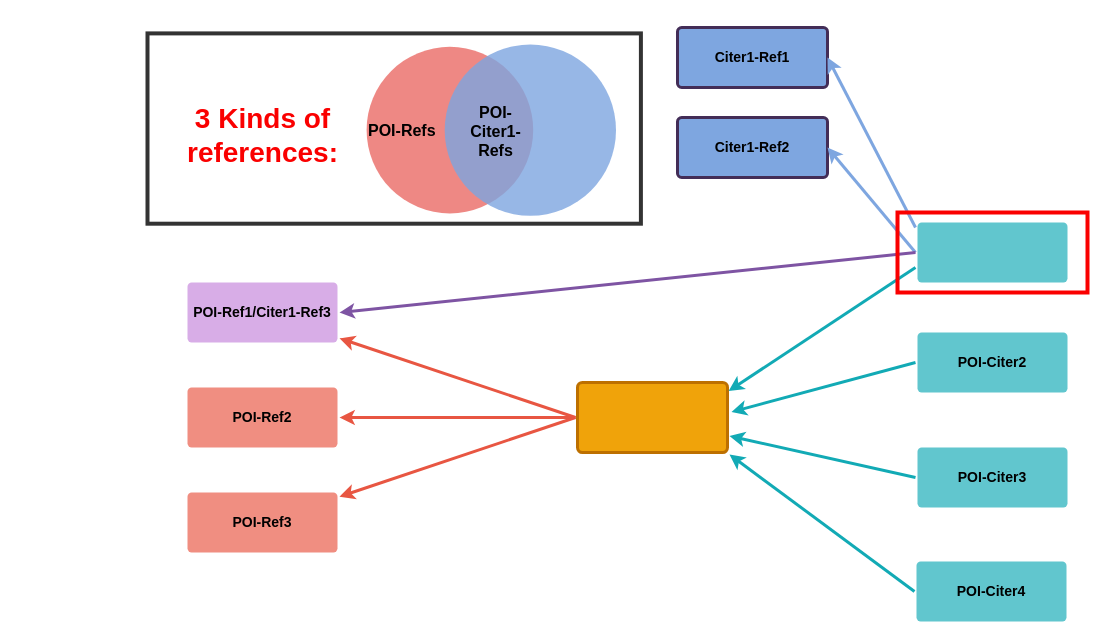
The diagram is 1106 pixels wide and 638 high, and some of its shapes have lost their labels. Each missing label, with the box of its shape:
Citer1-Refs: (444, 44, 616, 215)
Paper of interest (POI): (576, 380, 728, 454)
POI-Citer1: (917, 222, 1067, 282)
